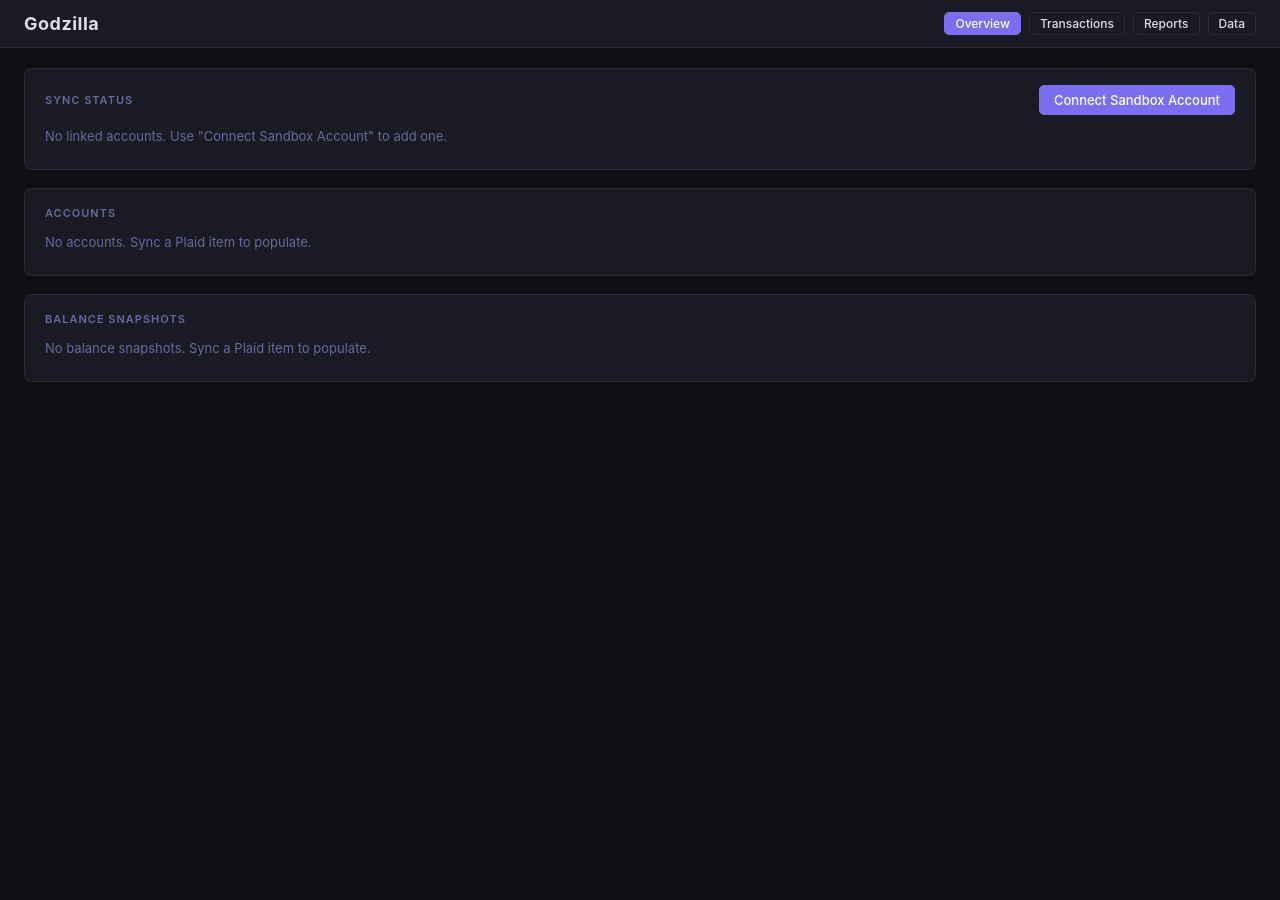
Test: App › switches tabs while keeping visited section panels mounted  REQ: ACC-TXN-001, ACC-REP-001, ACC-SET-001
The image size is (1280, 900).
Click the button with test id "tab-transactions" at point(1077, 24), box [1029, 12, 1125, 35]
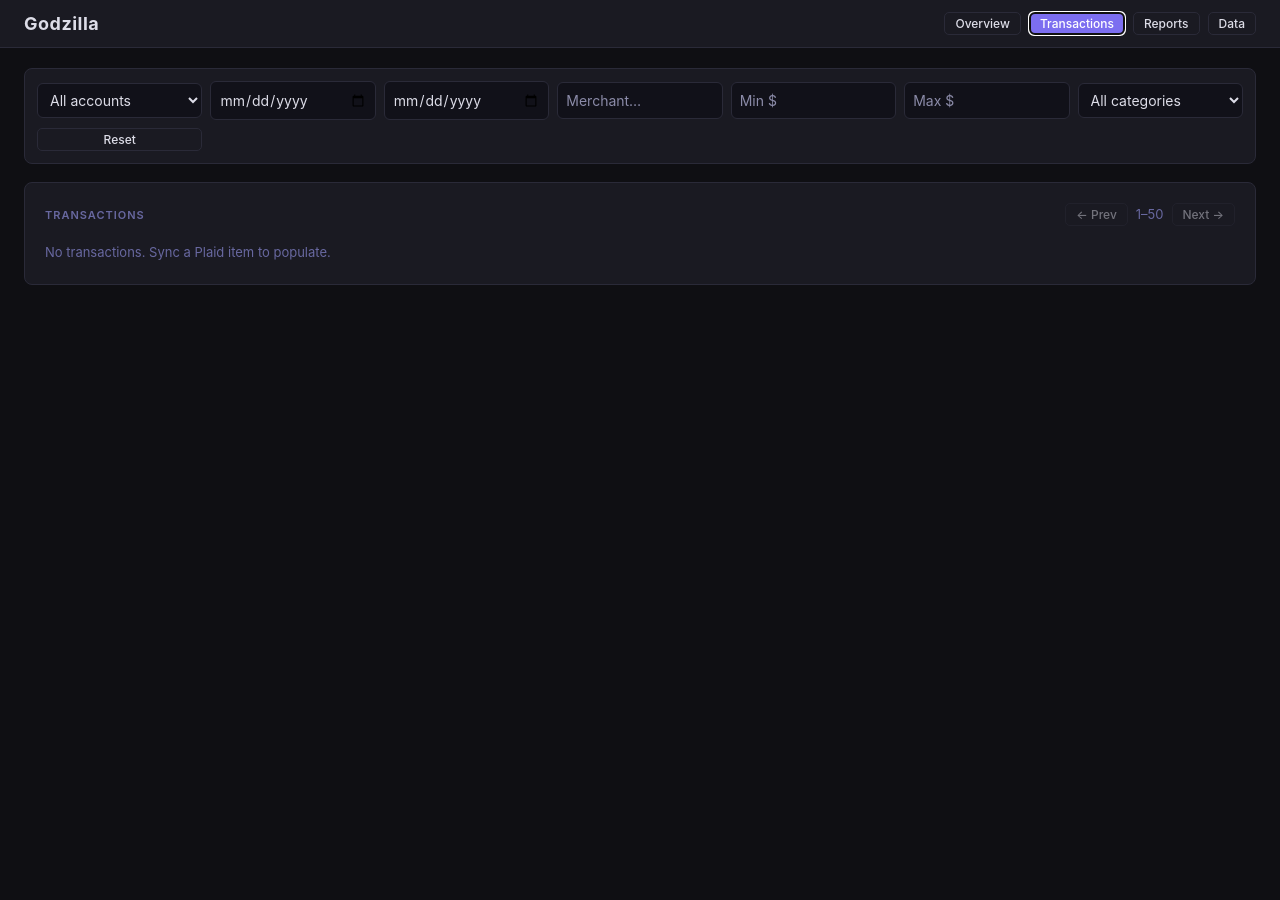
Check: the element with test id "transaction-filters" is shown, box [24, 68, 1256, 164]
Check: the element with test id "transactions-panel" is shown, box [24, 182, 1256, 285]
Click the button with test id "tab-reports" at point(1166, 24), box [1133, 12, 1200, 35]
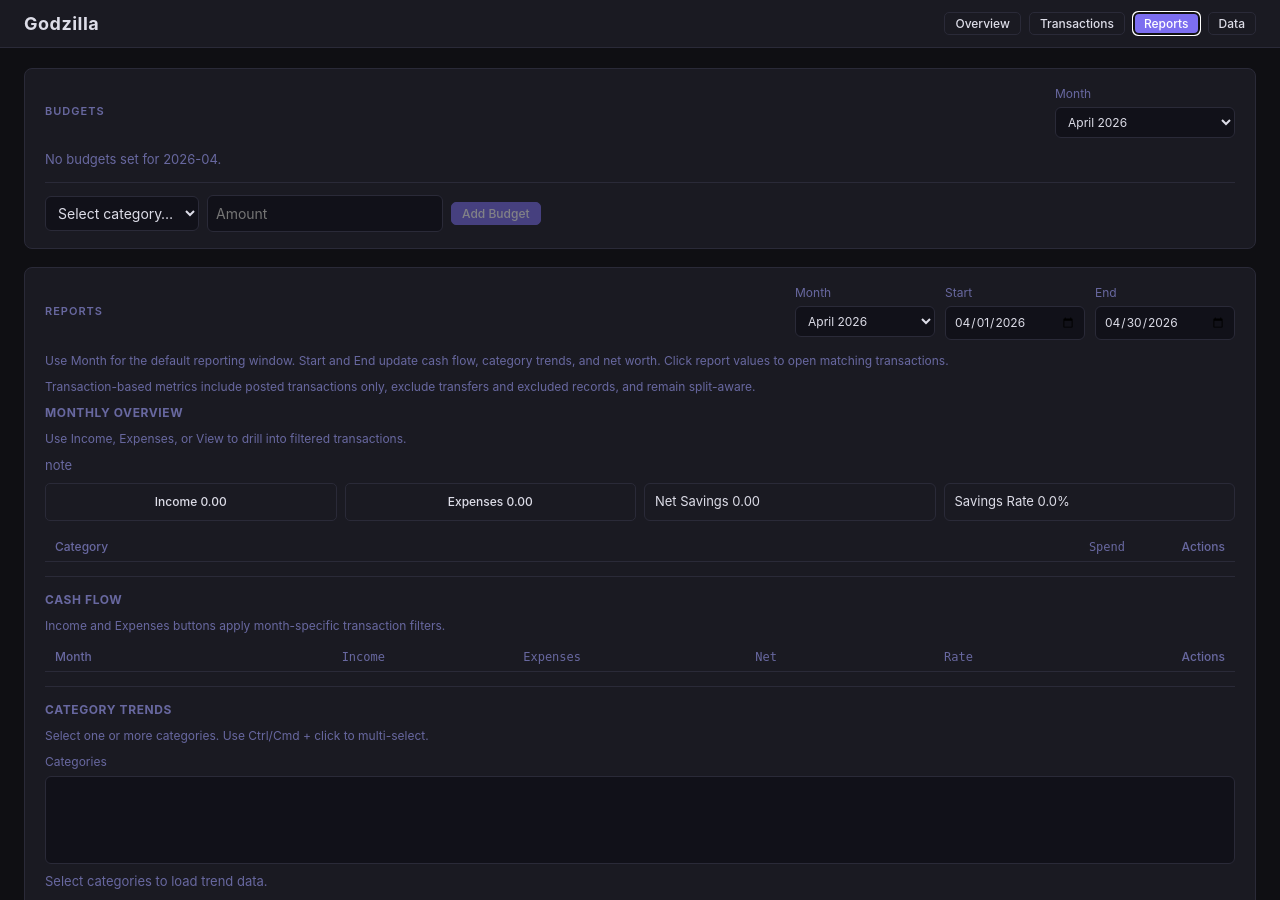
Check: the element with test id "budget-panel" is shown, box [24, 68, 1256, 248]
Click the button with test id "tab-data" at point(1232, 24), box [1208, 12, 1256, 35]
(page scrolled)
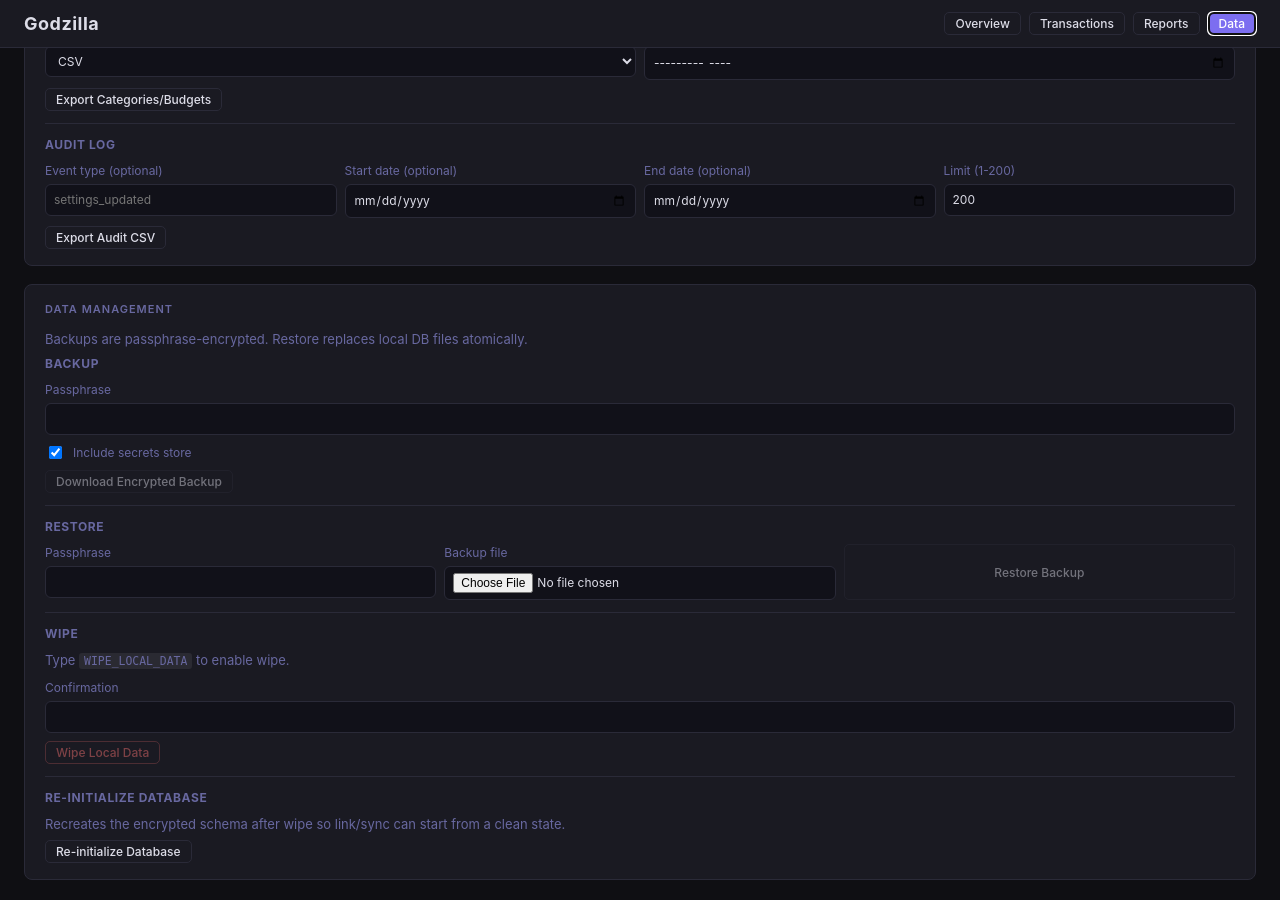
Check: the element with test id "data-management-panel" is shown
